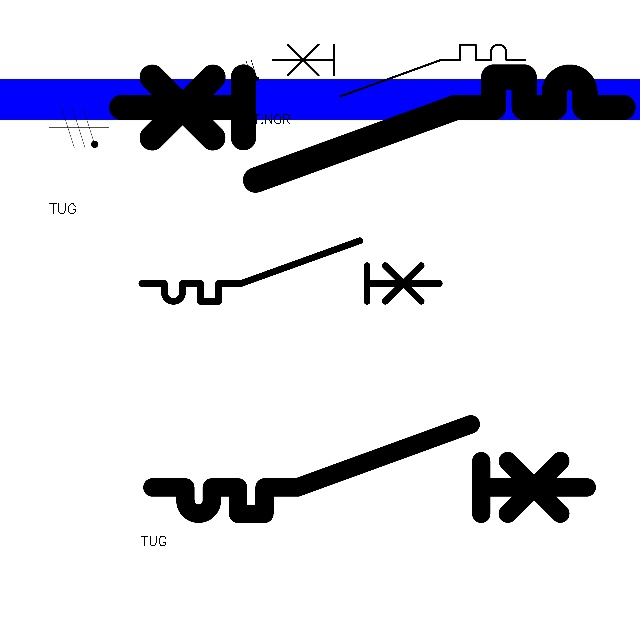interruptor_termomagnetico: (108, 64, 635, 193), (141, 413, 598, 525), (134, 233, 447, 309), (266, 38, 532, 103)
